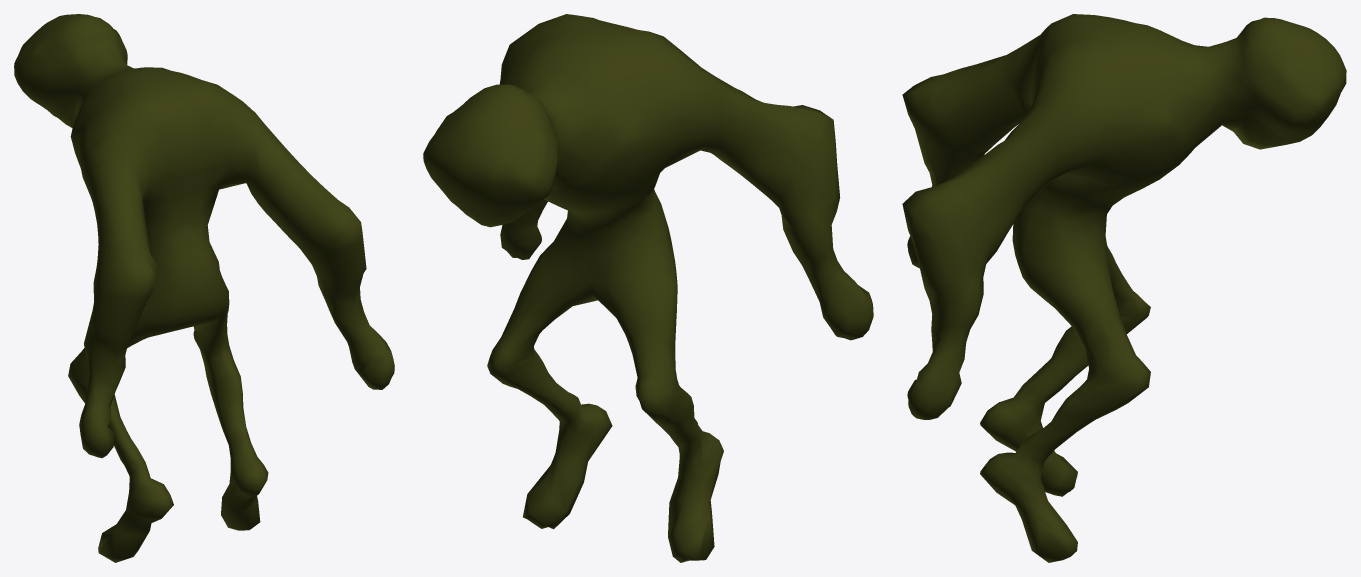
File: Monster1.fbx
The picture shows the model from 3 angles, left to right: view 1: azimuth 30°, elevation 25°; view 2: azimuth 150°, elevation 25°; view 3: azimuth 270°, elevation 25°; orthographic projection. The views are drawn at different scales.
Parts seen in each view (by area): view 1: BSurfaceMesh; view 2: BSurfaceMesh; view 3: BSurfaceMesh.
Boxes of the visible parts, x1,y1,x2,y2 form: BSurfaceMesh: (14, 14, 394, 562); BSurfaceMesh: (423, 14, 873, 562); BSurfaceMesh: (902, 14, 1346, 562).
Size of the model in its own units: 1.4 by 1.98 by 1.57.
